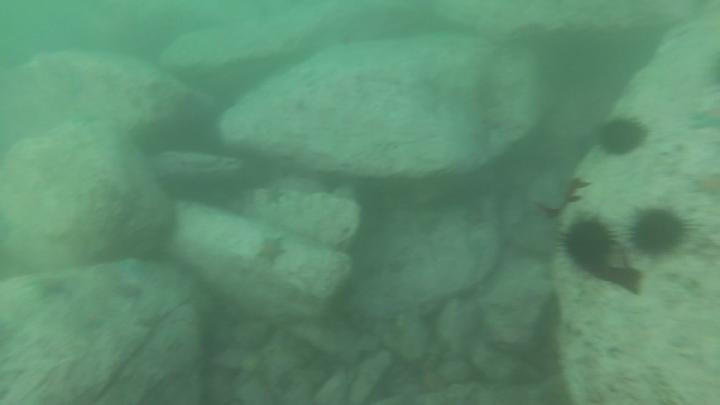echinus: (559, 212, 617, 272), (629, 207, 690, 257), (593, 112, 651, 160)
starfish: (22, 273, 72, 301), (254, 235, 292, 266), (687, 106, 720, 135), (260, 184, 288, 208)
